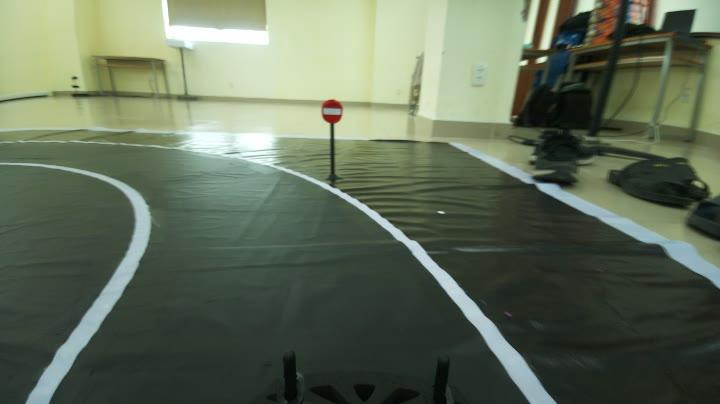no_entry: (316, 91, 346, 126)
